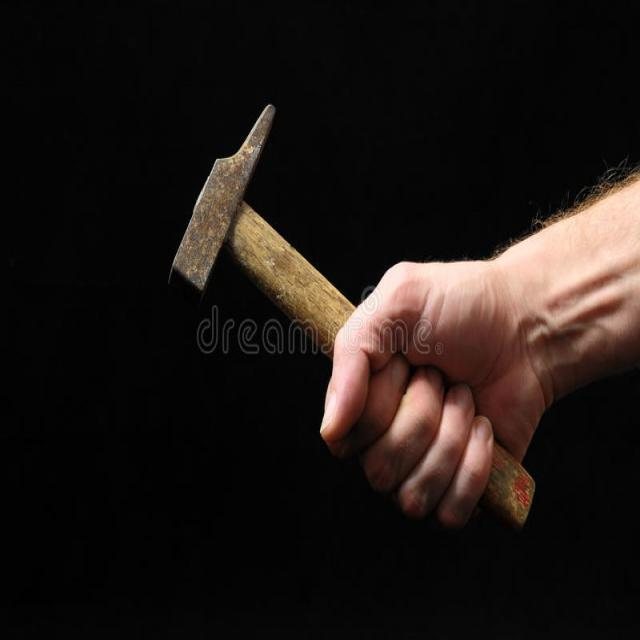hammer: (164, 99, 539, 537)
